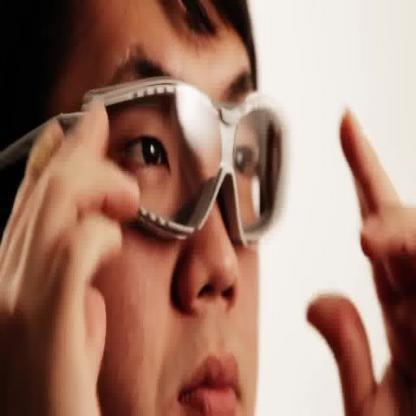goggles: (81, 79, 292, 253)
